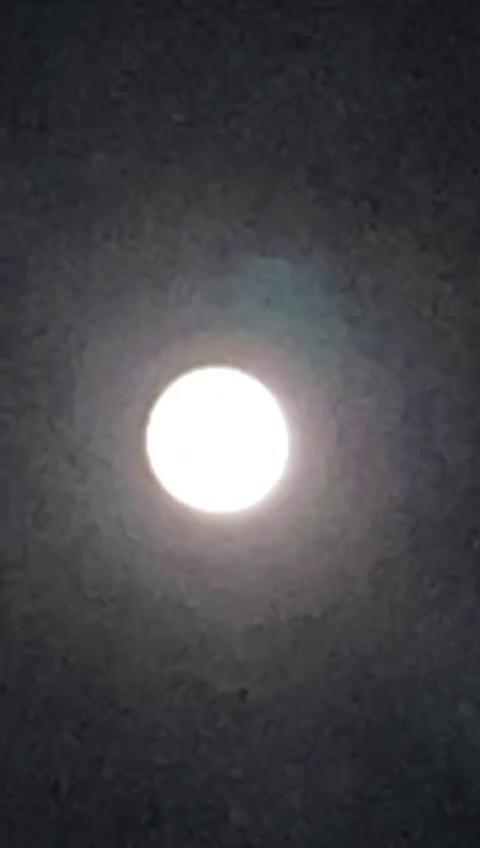moon: (154, 334, 322, 525)
